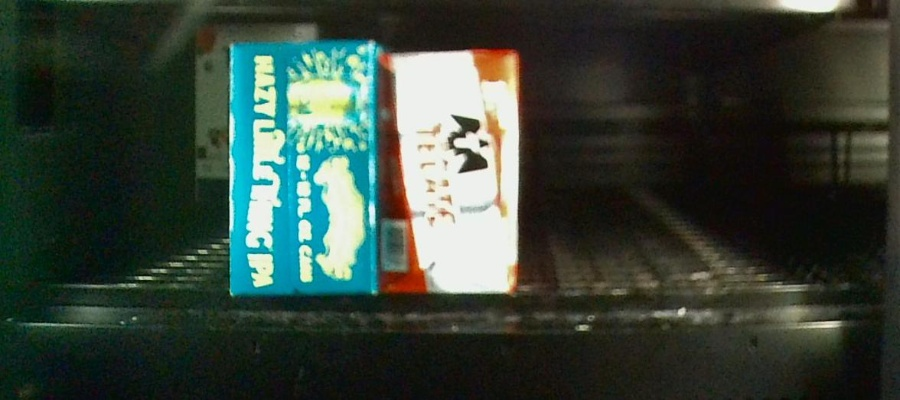bottle: (226, 43, 379, 293), (380, 52, 520, 292), (187, 17, 223, 208)
